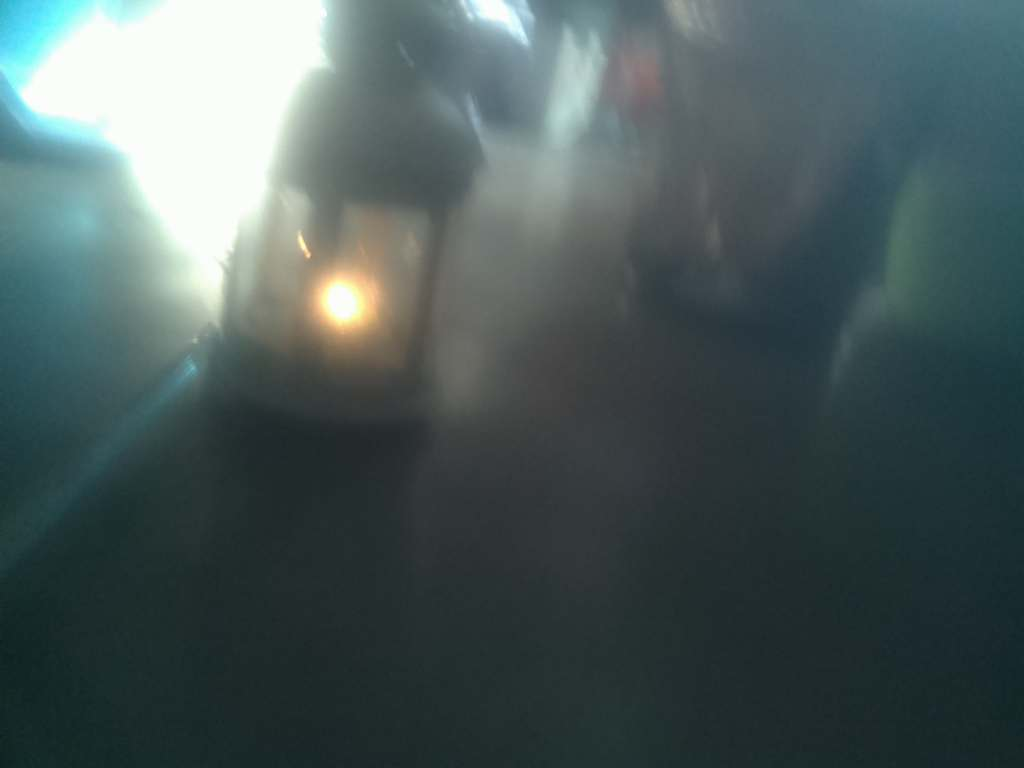fire: (310, 269, 392, 339)
